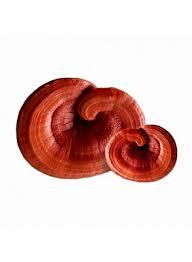Ganoderma - Fruit Body: (14, 76, 145, 181), (104, 126, 178, 182)
